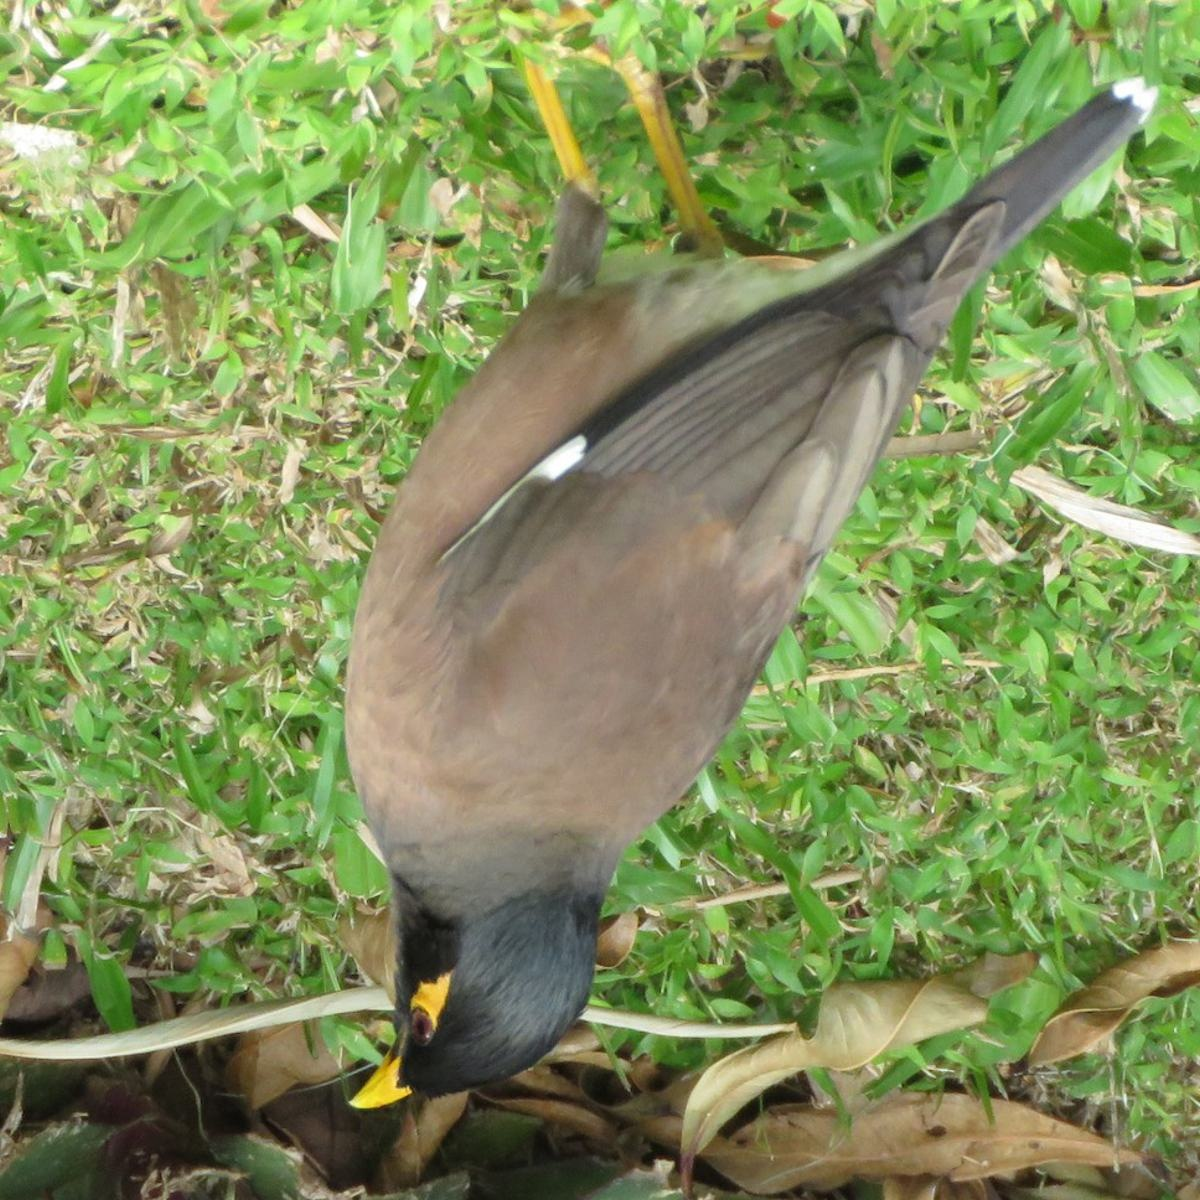myna: (293, 173, 955, 1146)
